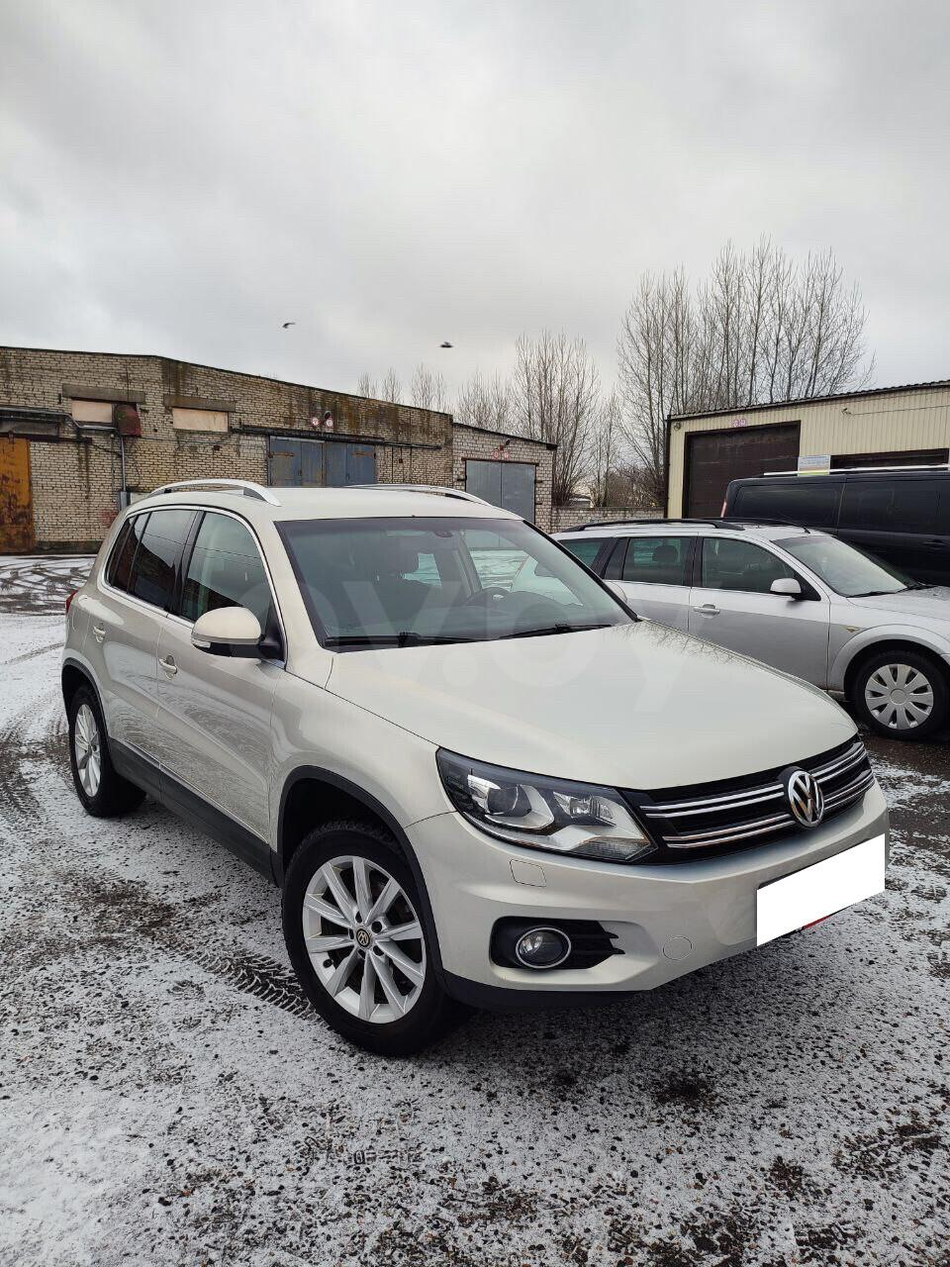Tiguan_2011-2018: (59, 483, 897, 1048)
